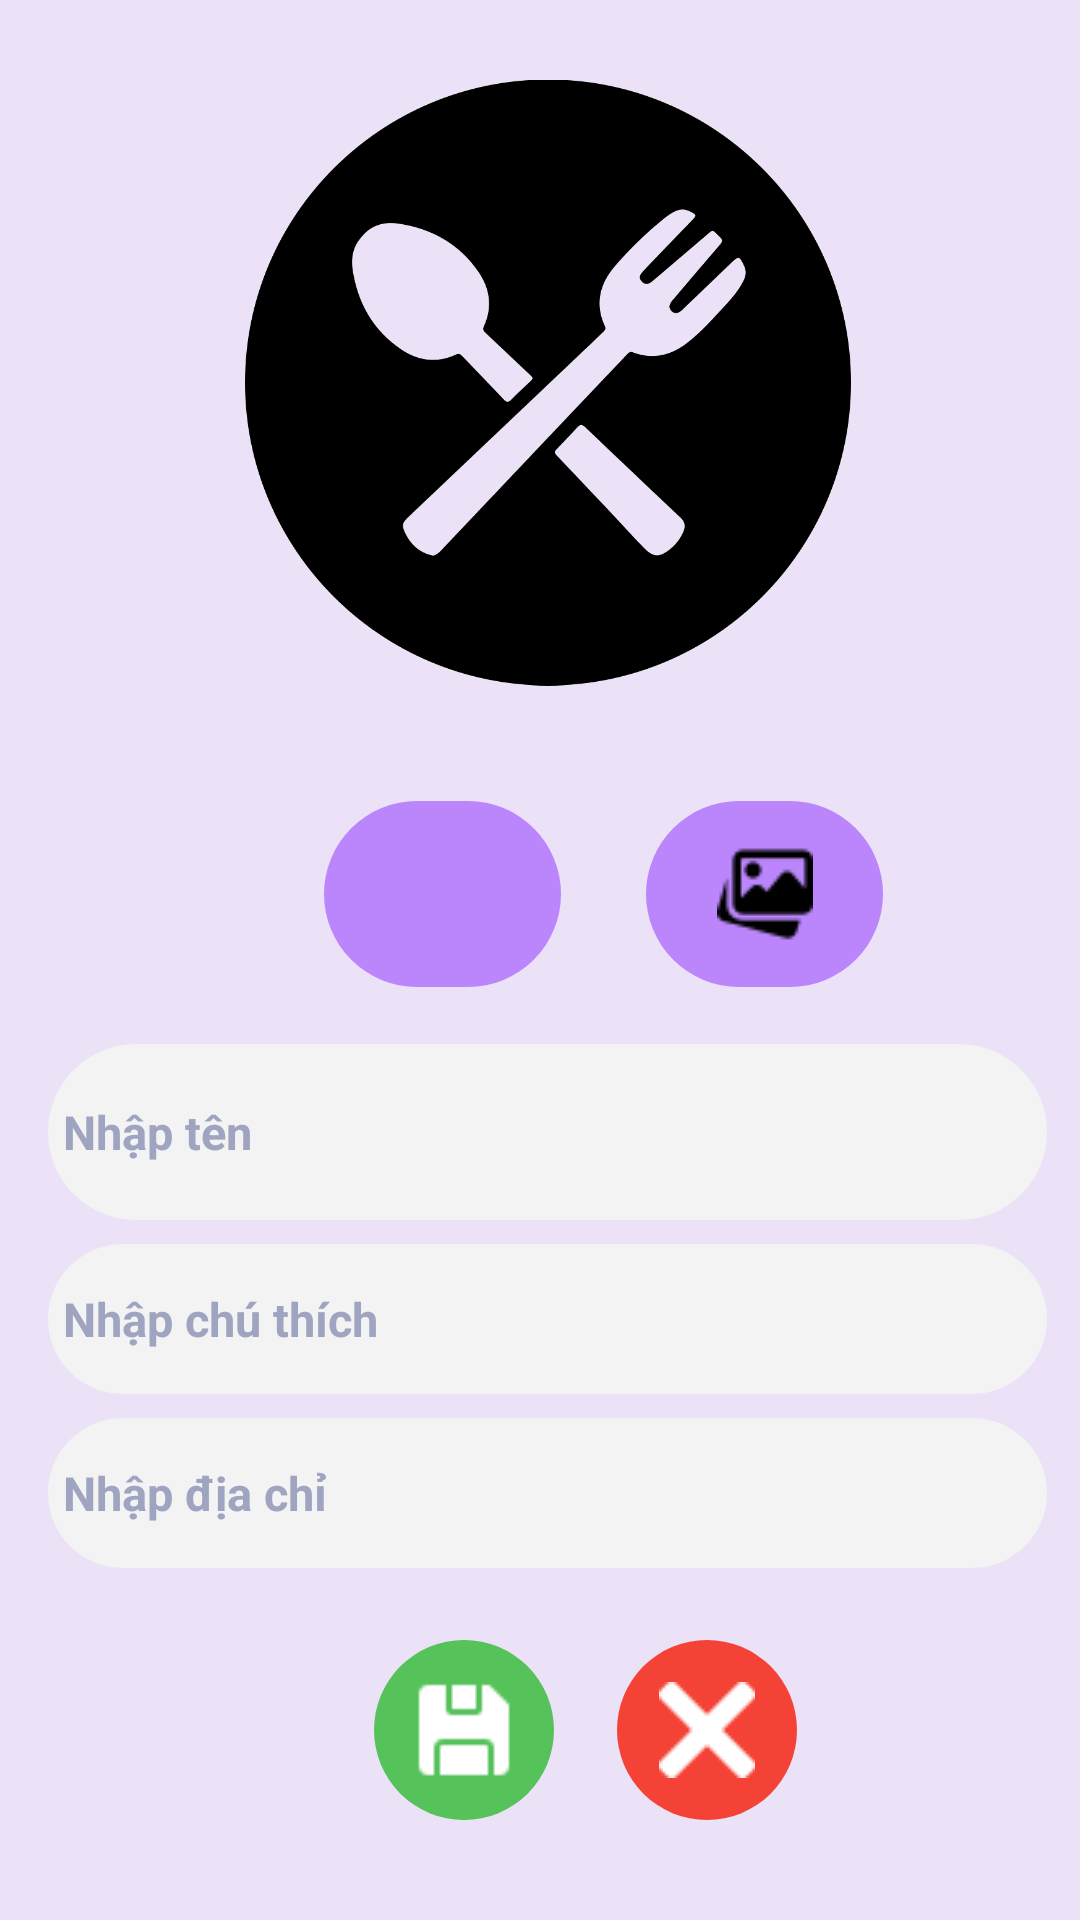

Screen size 1080x1920. Icon name, then its box in pixels as [left=x1, top=y1, right=x2, bottom=y2]:
cancel: [left=617, top=1640, right=797, bottom=1820]
diskette: [left=374, top=1640, right=554, bottom=1820]
library: [left=646, top=801, right=883, bottom=987]
